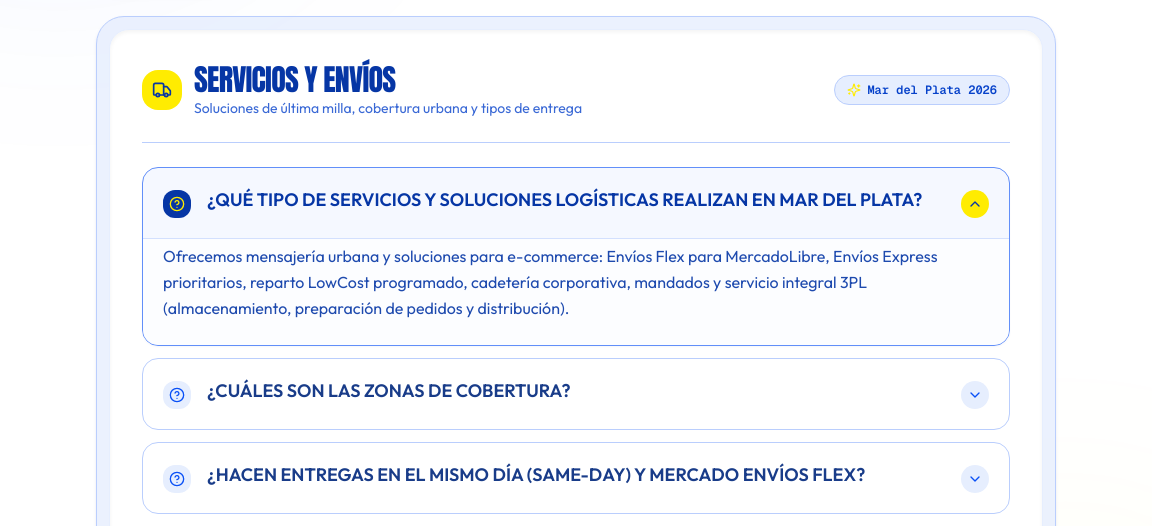
Test case: PreguntasFrecuentesPage — Tier 1 & 2 › T2.1: colapsa una pregunta si se vuelve a hacer clic en ella
The image size is (1152, 526).
(page scrolled)
Check: the text "Ofrecemos mensajería urbana" is shown, box [163,246,938,318]
Click the button "¿Qué tipo de servicios y soluciones logísticas realizan en Mar del Plata?". click: (576, 203)
box: [143,168,1009,238]
(page scrolled)
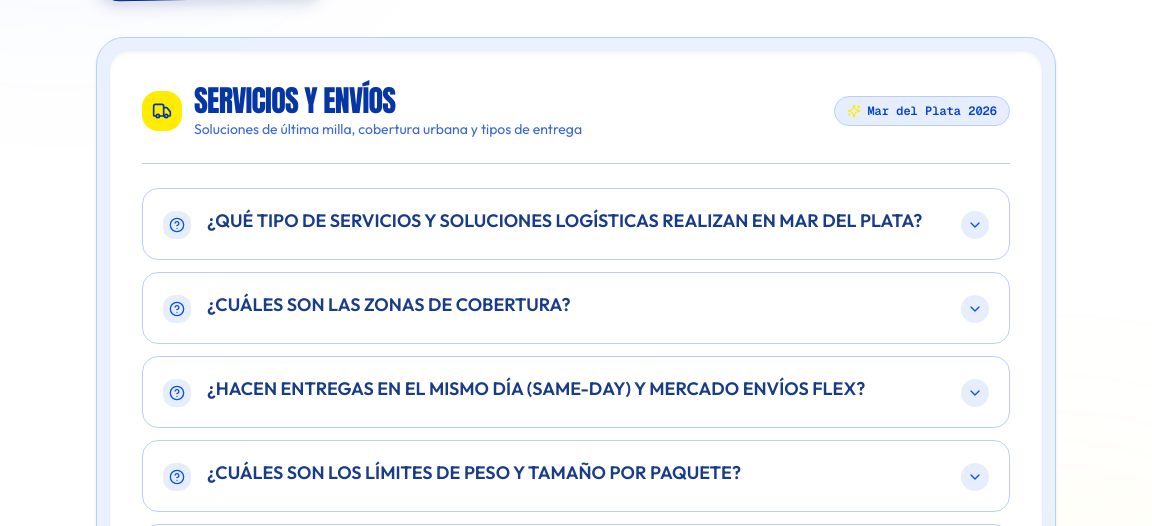
Check: the text "Ofrecemos mensajería urbana" is gone
